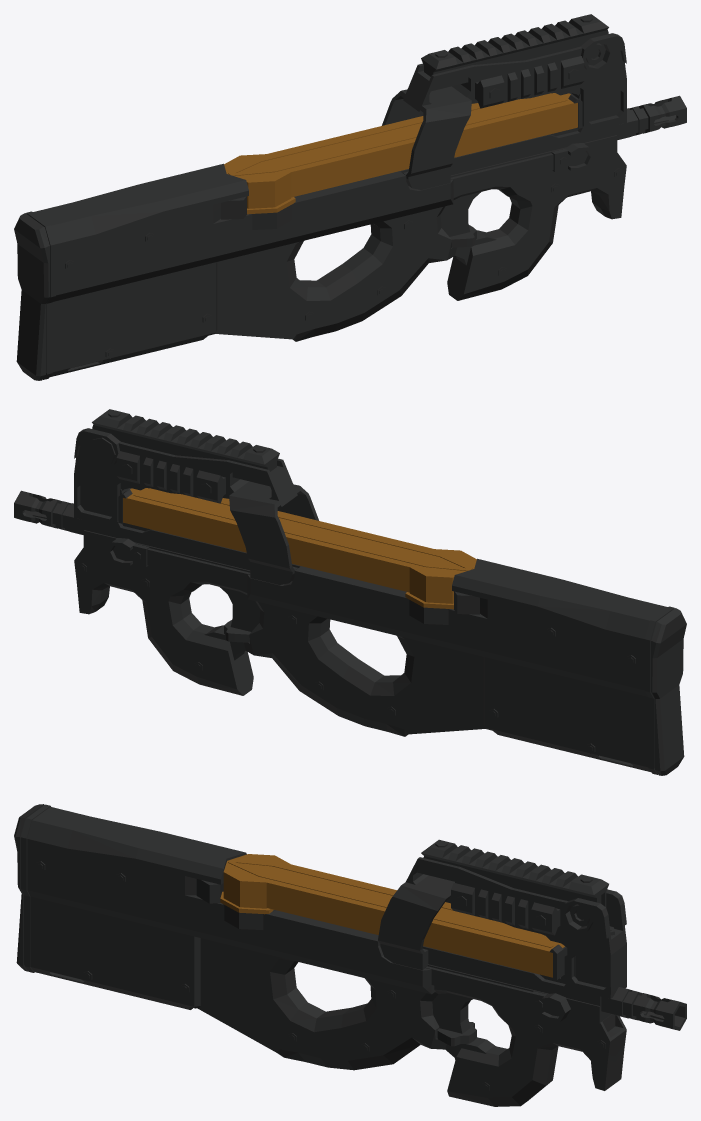
File: 🖍️_p90-_free_fire_gun_model.glb
The picture shows the model from 3 angles, top to bottom: view 1: azimuth 30°, elevation 25°; view 2: azimuth 150°, elevation 25°; view 3: azimuth 330°, elevation 25°; orthographic projection.
Parts seen in each view (by area): view 1: body, wood; view 2: body, wood; view 3: body, wood.
Part boxes in pixels (x1,y1,x2,y2): body: (14,14,686,380); wood: (224,93,577,214); body: (14,409,686,775); wood: (123,488,476,609); body: (14,804,686,1106); wood: (220,854,564,977).
Bounding box in the file's own units: 9.62 × 3.48 × 0.978.
